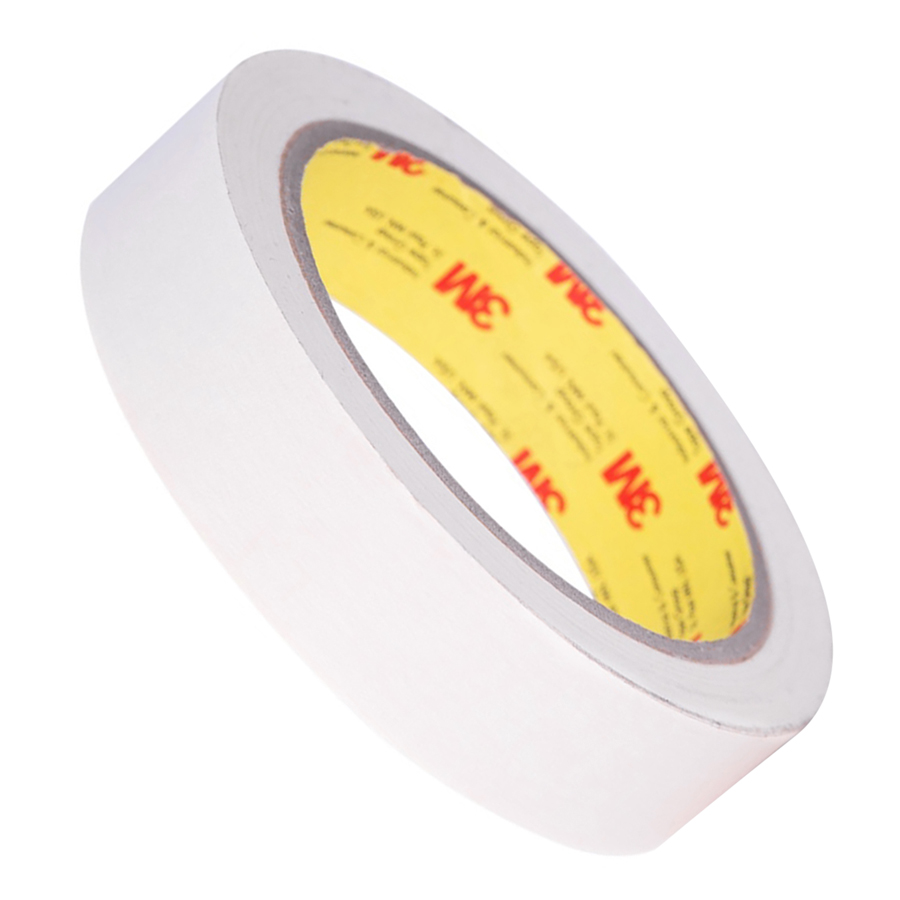3M: (429, 244, 522, 336), (601, 440, 670, 540)
